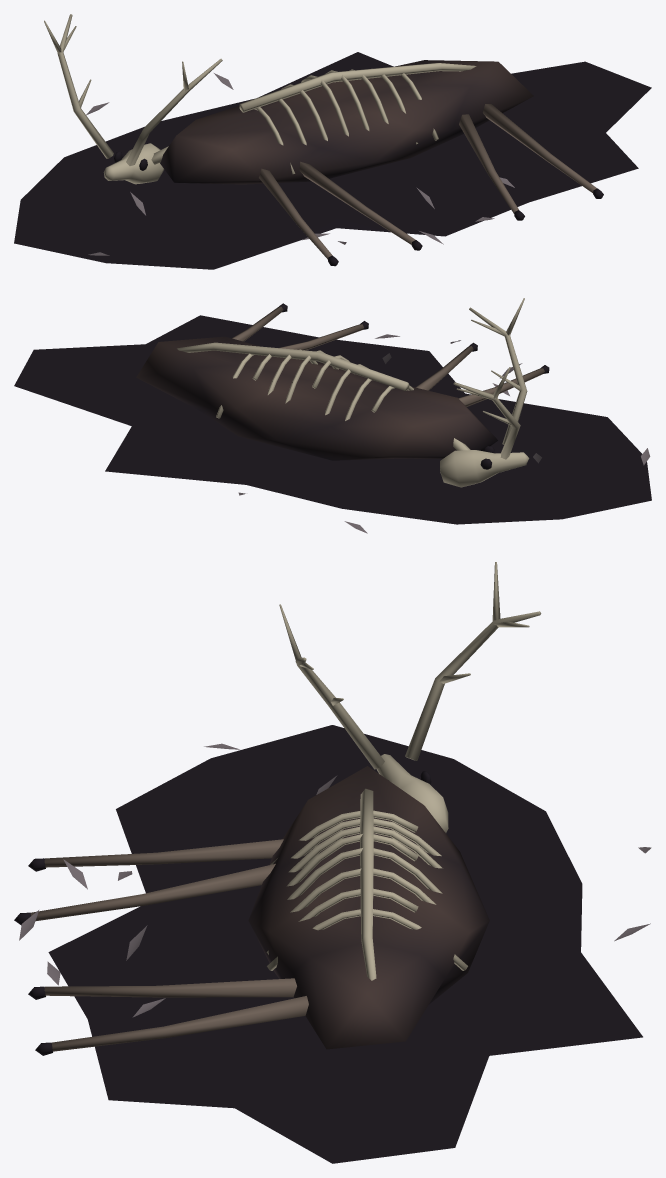
Rendered from blight_carcass.glb.
3 views of the same model, one above another, from view 1: azimuth 30°, elevation 25°; view 2: azimuth 150°, elevation 25°; view 3: azimuth 270°, elevation 25° (orthographic). The views are drawn at different scales.
Visible parts, largest first — view 1: blight_carcass; view 2: blight_carcass; view 3: blight_carcass.
Boxes of the visible parts, bbox=[...] form: blight_carcass: bbox=[14, 14, 651, 269]; blight_carcass: bbox=[14, 298, 651, 533]; blight_carcass: bbox=[14, 562, 651, 1163].
Size of what is drawn, in the model's own units: 2.97 by 0.719 by 1.82.
